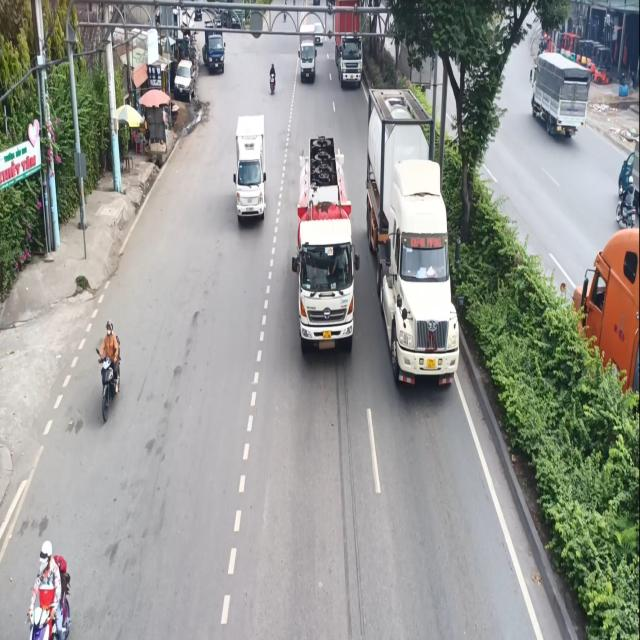motor: (28, 529, 72, 640), (97, 320, 125, 411), (266, 60, 276, 100)
truck: (363, 81, 463, 391), (294, 133, 359, 375), (233, 112, 271, 228)
